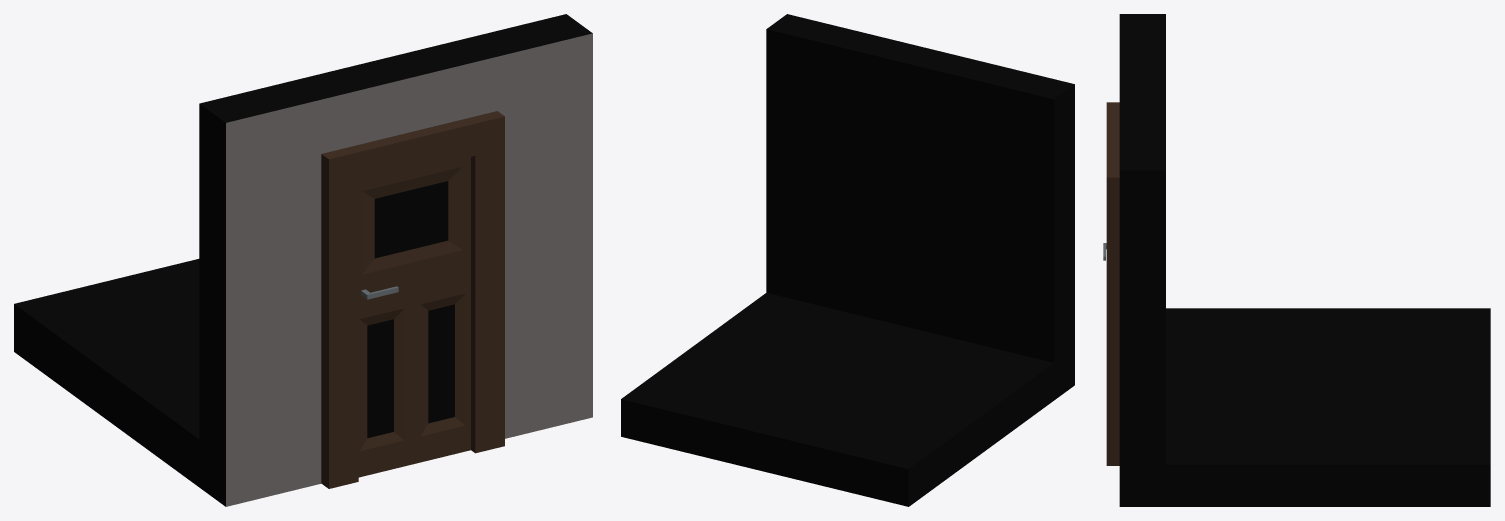
3 views of the same model, side by side, from view 1: azimuth 30°, elevation 25°; view 2: azimuth 150°, elevation 25°; view 3: azimuth 270°, elevation 25° (orthographic). The views are drawn at different scales.
Parts seen in each view (by area): view 1: floor_wall.059; view 2: floor_wall.059; view 3: floor_wall.059.
Boxes of the visible parts, bbox=[...] form: floor_wall.059: bbox=[14, 14, 592, 506]; floor_wall.059: bbox=[621, 14, 1074, 506]; floor_wall.059: bbox=[1103, 14, 1490, 506].
Bounding box in the file's own units: 200 × 200 × 209.
